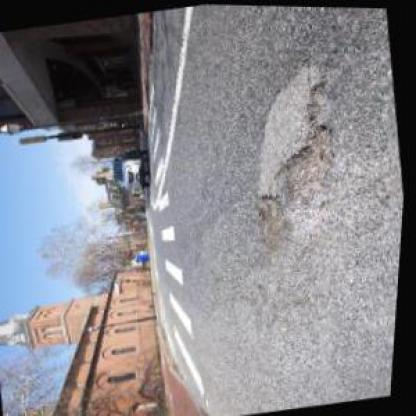pothole: (269, 114, 348, 197), (251, 186, 298, 252)
